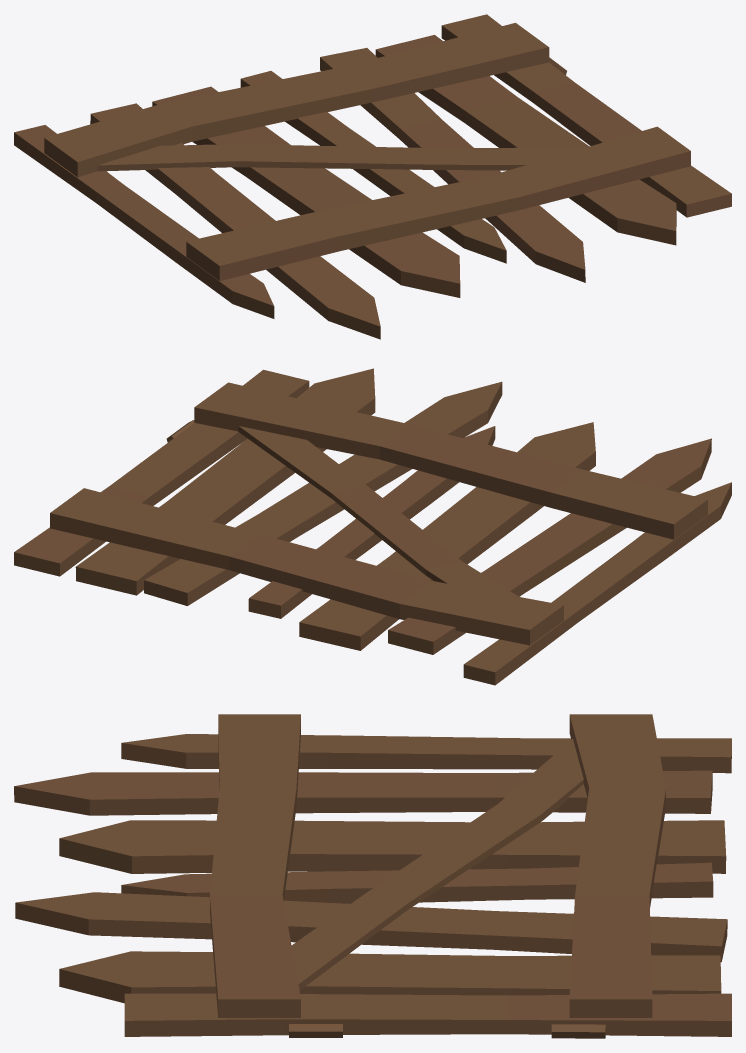
File: Barrier_01_Right_destroy_portion.fbx
3 views of the same model, one above another, from view 1: azimuth 30°, elevation 25°; view 2: azimuth 150°, elevation 25°; view 3: azimuth 270°, elevation 25° (orthographic). The views are drawn at different scales.
Parts seen in each view (by area): view 1: barriere_1.bord droit destroy portillon; view 2: barriere_1.bord droit destroy portillon; view 3: barriere_1.bord droit destroy portillon.
Part boxes in pixels (left/top/right/bottom): barriere_1.bord droit destroy portillon: left=14, top=14, right=731, bottom=339; barriere_1.bord droit destroy portillon: left=14, top=368, right=731, bottom=685; barriere_1.bord droit destroy portillon: left=14, top=714, right=731, bottom=1038.
Size of the model in its own units: 101 by 6.76 by 105.
